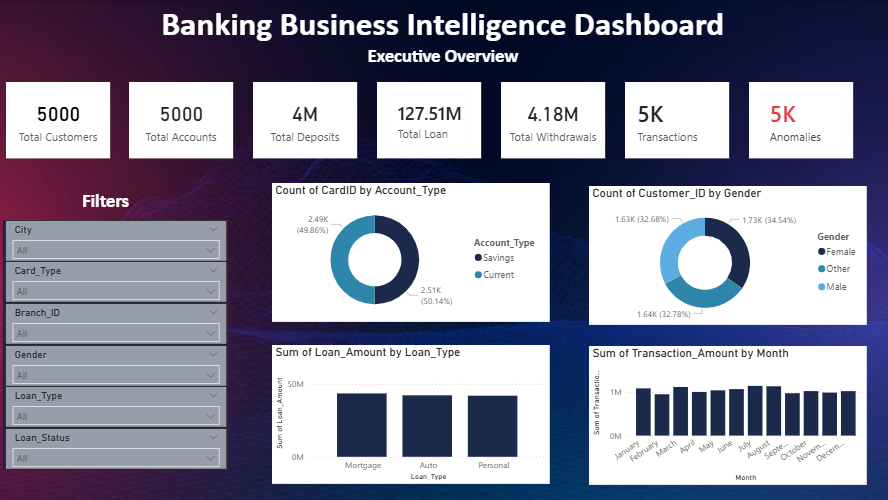

This screenshot's page, from the dashboard's own definition file:
{"tool":"powerbi","page":{"name":"Executive Overview","canvas":[1280,720],"ordinal":0},"visuals":[{"type":"card","fields":{"Values":["Banking_Capstone_Cleaned_Dataset.Total Customers"]},"box":[8,118.3,150,110],"z":0},{"type":"card","fields":{"Values":["Banking_Capstone_Cleaned_Dataset.Total Accounts"]},"box":[186.3,118.3,150,110],"z":1000},{"type":"card","fields":{"Values":["Banking_Capstone_Cleaned_Dataset.Total Deposits"]},"box":[364.7,118.3,150,110],"z":2000},{"type":"card","fields":{"Values":["Banking_Capstone_Cleaned_Dataset.Total Withdrawals"]},"box":[721.3,118.3,150,110],"z":3000},{"type":"cardVisual","fields":{"Data":["Banking_Capstone_Cleaned_Dataset.Total Loan"]},"box":[543,118.3,150,110],"z":4000},{"type":"cardVisual","fields":{"Data":["Banking_Capstone_Cleaned_Dataset.Transactions"]},"box":[899.7,118.3,150,110],"z":5000},{"type":"cardVisual","fields":{"Data":["Banking_Capstone_Cleaned_Dataset.Anomalies"]},"box":[1078,118.3,150,110],"z":6000},{"type":"textbox","box":[104,0,1068,114],"z":7000},{"type":"clusteredColumnChart","fields":{"Y":["Sum(Banking_Capstone_Cleaned_Dataset.Transaction_Amount)"],"Category":["Banking_Capstone_Cleaned_Dataset.Transaction_Month.Variation.Date Hierarchy.Month","Banking_Capstone_Cleaned_Dataset.Transaction_Month.Variation.Date Hierarchy.Day"]},"box":[848.2,498.2,400,200],"z":8000},{"type":"donutChart","fields":{"Category":["Banking_Capstone_Cleaned_Dataset.Account_Type"],"Y":["CountNonNull(Banking_Capstone_Cleaned_Dataset.CardID)"]},"box":[391.7,263.5,400,200],"z":9000},{"type":"donutChart","fields":{"Category":["Banking_Capstone_Cleaned_Dataset.Gender"],"Y":["CountNonNull(Banking_Capstone_Cleaned_Dataset.Customer_ID)"]},"box":[848.2,267.8,400,200],"z":10000},{"type":"clusteredColumnChart","fields":{"Category":["Banking_Capstone_Cleaned_Dataset.Loan_Type"],"Y":["Sum(Banking_Capstone_Cleaned_Dataset.Loan_Amount)"]},"box":[391.7,496.8,400,200],"z":11000},{"type":"shape","box":[4.4,316.1,320,360],"z":12000},{"type":"slicer","fields":{"Values":["Banking_Capstone_Cleaned_Dataset.City"]},"box":[7.3,316.1,320,60],"z":13000},{"type":"slicer","fields":{"Values":["Banking_Capstone_Cleaned_Dataset.Card_Type"]},"box":[7.3,376.1,320,60],"z":14000},{"type":"slicer","fields":{"Values":["Banking_Capstone_Cleaned_Dataset.Branch_ID"]},"box":[7.3,436.1,320,60],"z":15000},{"type":"slicer","fields":{"Values":["Banking_Capstone_Cleaned_Dataset.Gender"]},"box":[7.3,496.1,320,60],"z":16000},{"type":"slicer","fields":{"Values":["Banking_Capstone_Cleaned_Dataset.Loan_Type"]},"box":[7.3,556.1,320,60],"z":17000},{"type":"slicer","fields":{"Values":["Banking_Capstone_Cleaned_Dataset.Loan_Status"]},"box":[7.3,616.1,320,60],"z":18000},{"type":"textbox","box":[7.2,267.8,289.4,49],"z":19000}]}

Visuals, with their boxes in screenshot pixels (x1, y1, x2, y2), scaled from the page's 1280x720 canvas onto the 888x500 screenshot:
card - Banking_Capstone_Cleaned_Dataset.Total Customers: locate(6, 82, 110, 159)
card - Banking_Capstone_Cleaned_Dataset.Total Accounts: locate(129, 82, 233, 159)
card - Banking_Capstone_Cleaned_Dataset.Total Deposits: locate(253, 82, 357, 159)
card - Banking_Capstone_Cleaned_Dataset.Total Withdrawals: locate(500, 82, 604, 159)
cardVisual - Banking_Capstone_Cleaned_Dataset.Total Loan: locate(377, 82, 481, 159)
cardVisual - Banking_Capstone_Cleaned_Dataset.Transactions: locate(624, 82, 728, 159)
cardVisual - Banking_Capstone_Cleaned_Dataset.Anomalies: locate(748, 82, 852, 159)
textbox: locate(72, 0, 813, 79)
clusteredColumnChart - Sum(Banking_Capstone_Cleaned_Dataset.Transaction_Amount) x Banking_Capstone_Cleaned_Dataset.Transaction_Month.Variation.Date Hierarchy.Month: locate(588, 346, 866, 485)
donutChart - Banking_Capstone_Cleaned_Dataset.Account_Type x CountNonNull(Banking_Capstone_Cleaned_Dataset.CardID): locate(272, 183, 549, 322)
donutChart - Banking_Capstone_Cleaned_Dataset.Gender x CountNonNull(Banking_Capstone_Cleaned_Dataset.Customer_ID): locate(588, 186, 866, 325)
clusteredColumnChart - Banking_Capstone_Cleaned_Dataset.Loan_Type x Sum(Banking_Capstone_Cleaned_Dataset.Loan_Amount): locate(272, 345, 549, 484)
shape: locate(3, 220, 225, 470)
slicer - Banking_Capstone_Cleaned_Dataset.City: locate(5, 220, 227, 261)
slicer - Banking_Capstone_Cleaned_Dataset.Card_Type: locate(5, 261, 227, 303)
slicer - Banking_Capstone_Cleaned_Dataset.Branch_ID: locate(5, 303, 227, 345)
slicer - Banking_Capstone_Cleaned_Dataset.Gender: locate(5, 345, 227, 386)
slicer - Banking_Capstone_Cleaned_Dataset.Loan_Type: locate(5, 386, 227, 428)
slicer - Banking_Capstone_Cleaned_Dataset.Loan_Status: locate(5, 428, 227, 470)
textbox: locate(5, 186, 206, 220)
